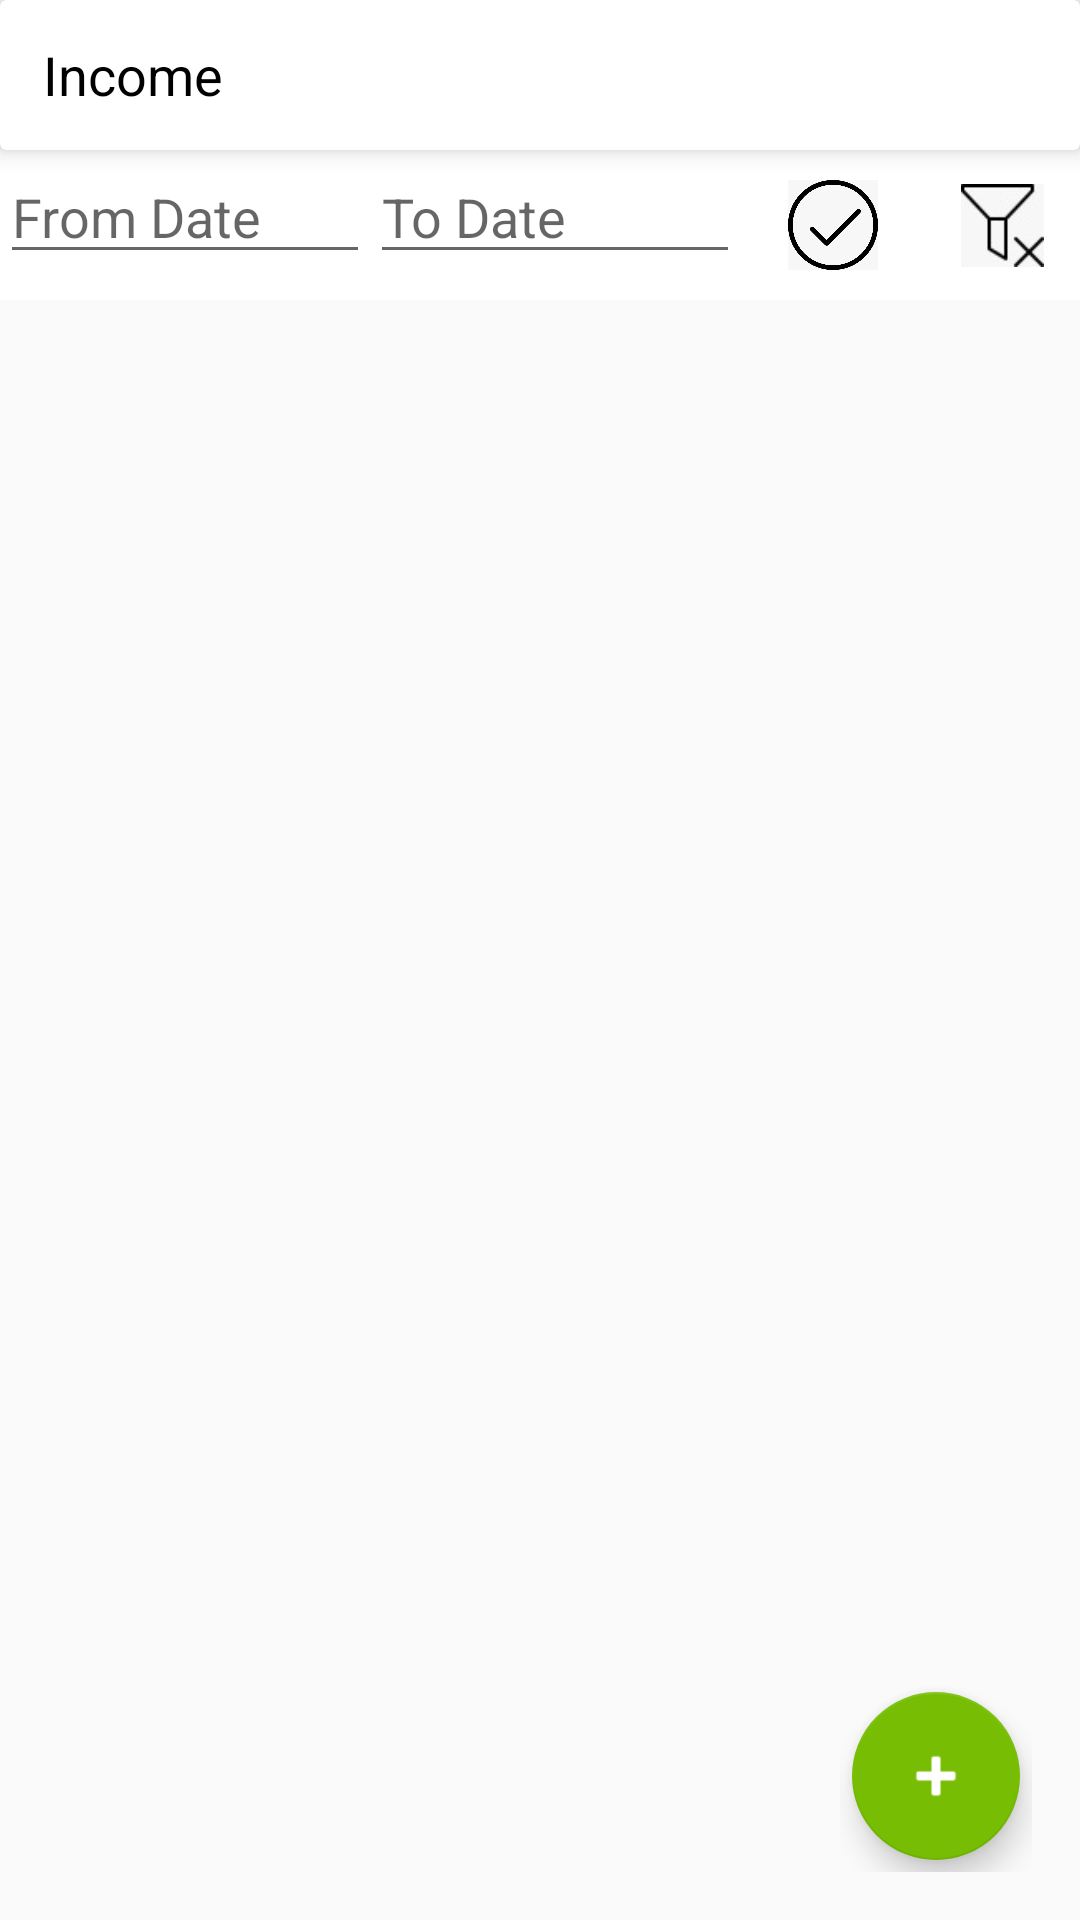

Where to tap for icons on this 1080px×1920px app screen, as (x,y):
add: (936,1776)
apply: (833,225)
clear filter: (1002,225)
